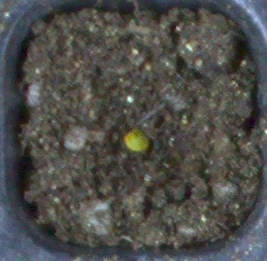chilli seed: (122, 126, 151, 152)
